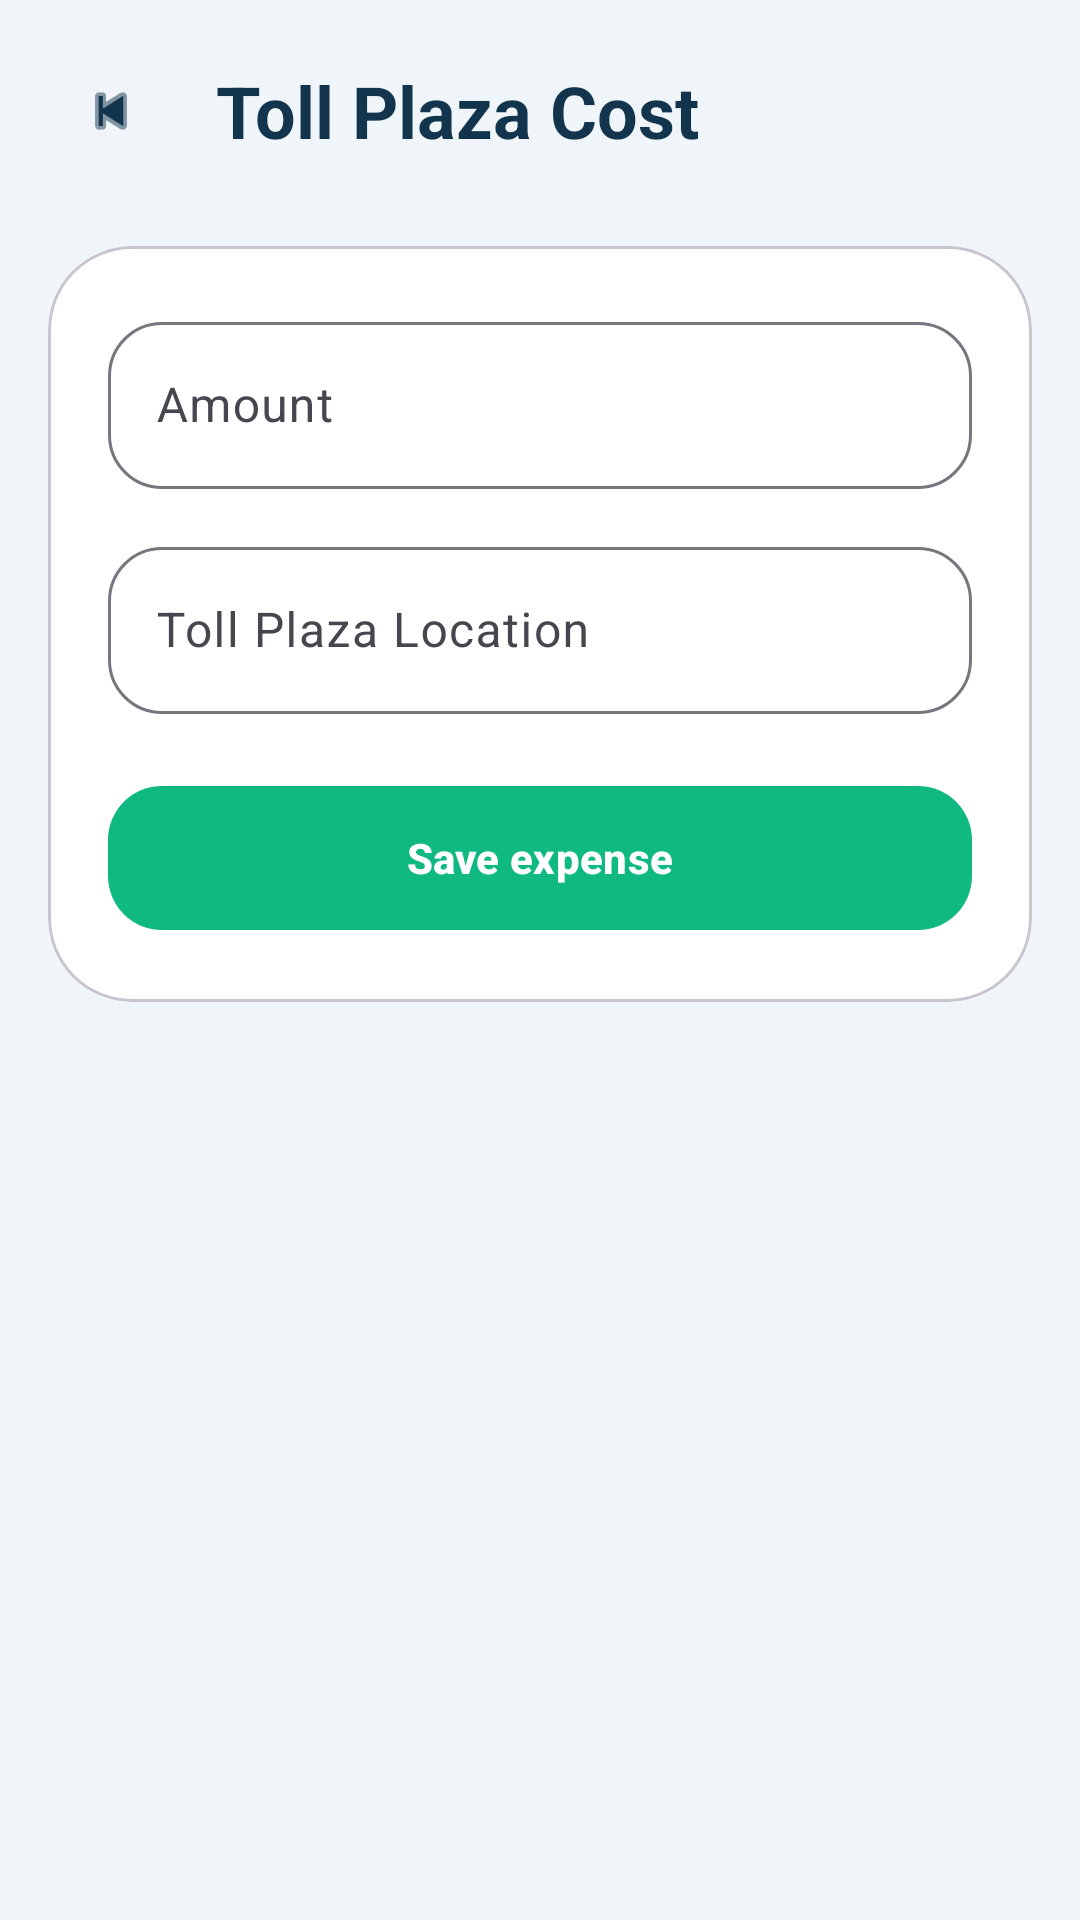

Point at icon controls on the screen. Image size 1080 x 1920, points as point (x, y).
Back: point (111, 111)
